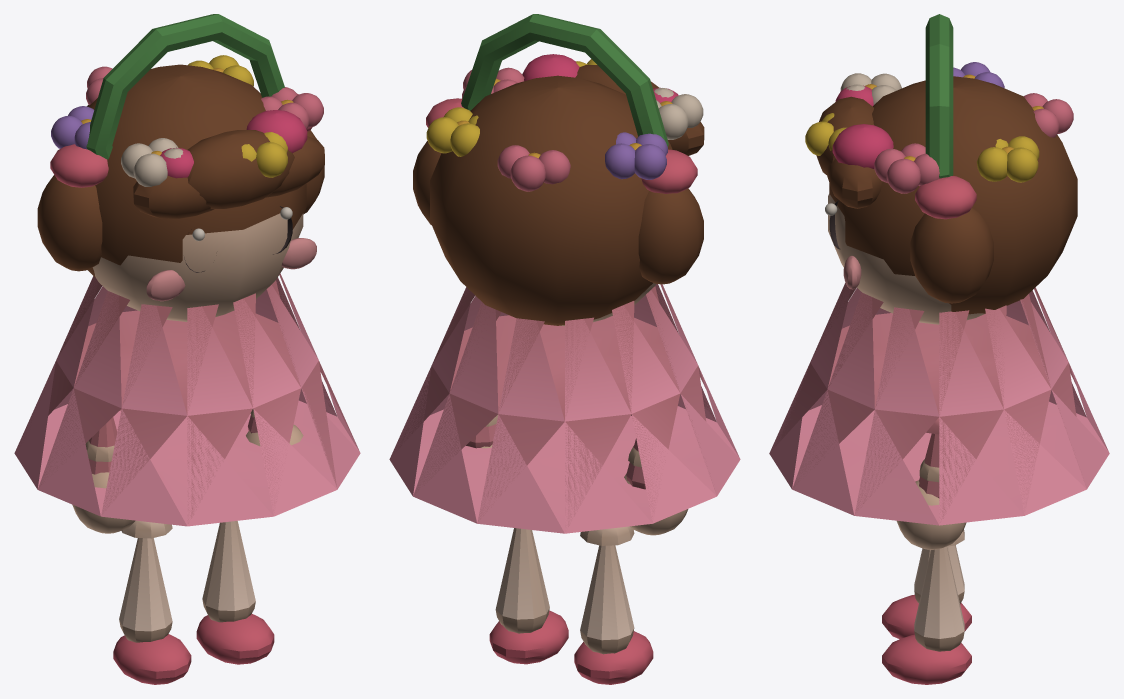
Rendered from girl-flower-rest.glb.
The picture shows the model from 3 angles, left to right: view 1: azimuth 30°, elevation 25°; view 2: azimuth 150°, elevation 25°; view 3: azimuth 270°, elevation 25°; orthographic projection. The views are drawn at different scales.
Parts seen in each view (by area): view 1: player_girl-flower:rest; view 2: player_girl-flower:rest; view 3: player_girl-flower:rest.
Part boxes in pixels (x1,y1,x2,y2): player_girl-flower:rest: (14,14,360,684); player_girl-flower:rest: (389,14,740,684); player_girl-flower:rest: (769,14,1109,684).
Size of the model in its own units: 0.54 by 1.1 by 0.54.
